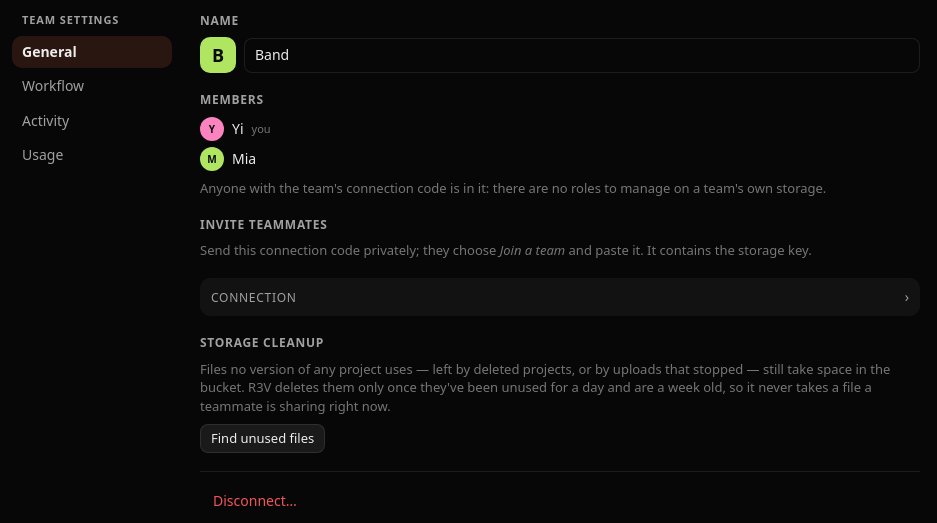
it: TeamSettings › shows General and Workflow as tabs, the team's members in General, and remembers the tab
The width and height of the screenshot is (937, 523).
Expected: the navigation bar "Team settings" shows "General", [12,36,172,68]
Expected: the text "Mia" is shown, [232,149,256,169]
Click the button "Workflow". click: (92, 86)
box: [12,70,172,102]
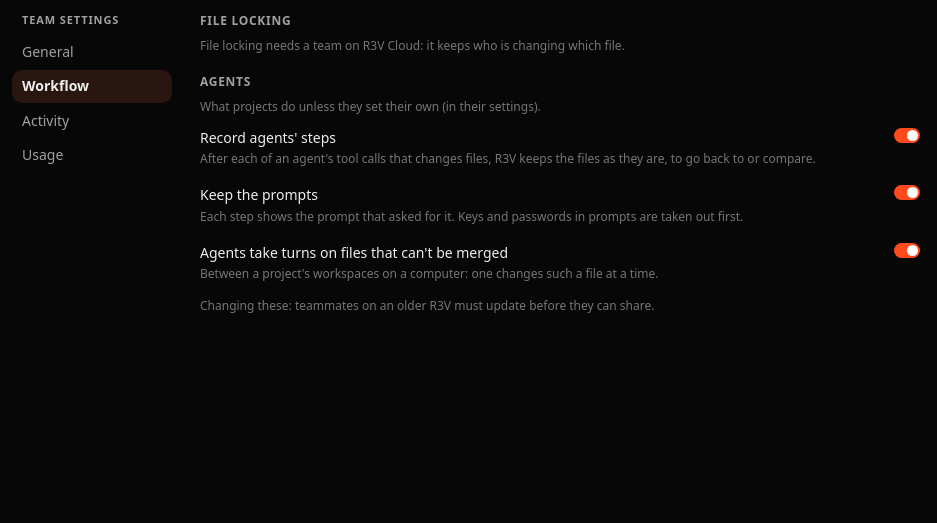
Now the text "File locking needs a team on R3V Cloud" is shown, box [200,37,625,54]
Now the text "Mia" is gone
